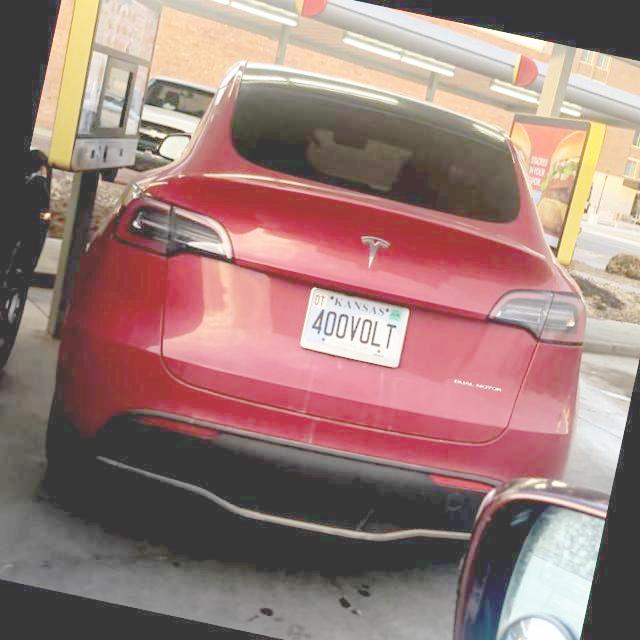license_plate: (302, 286, 413, 369)
